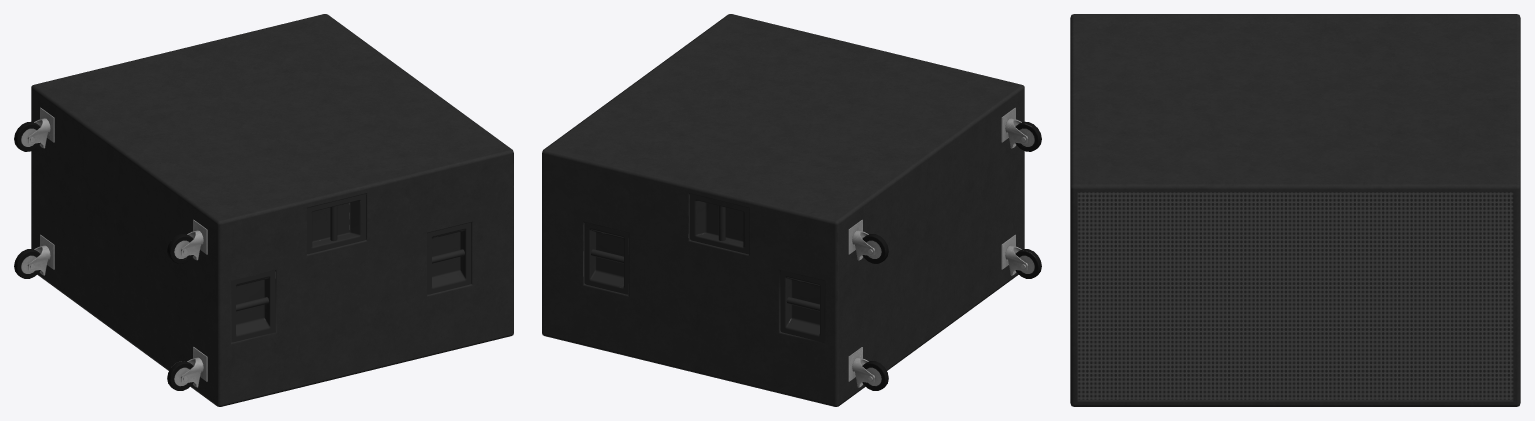
File: SM_Speaker_01.fbx
3 views of the same model, side by side, from view 1: azimuth 30°, elevation 25°; view 2: azimuth 150°, elevation 25°; view 3: azimuth 270°, elevation 25° (orthographic). The views are drawn at different scales.
Visible parts, largest first — view 1: SM_Speaker_01_LOD0; view 2: SM_Speaker_01_LOD0; view 3: SM_Speaker_01_LOD0.
Part boxes in pixels (x1,y1,x2,y2): SM_Speaker_01_LOD0: (14, 14, 513, 406); SM_Speaker_01_LOD0: (542, 14, 1041, 406); SM_Speaker_01_LOD0: (1070, 14, 1520, 406).
Bounding box in the file's own units: 111 × 110 × 60.
1 material, 1 textured.
